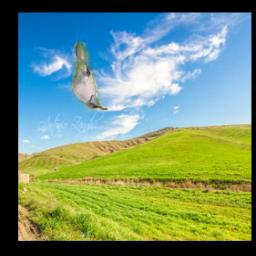Cuckoo: (73, 43, 108, 111)
